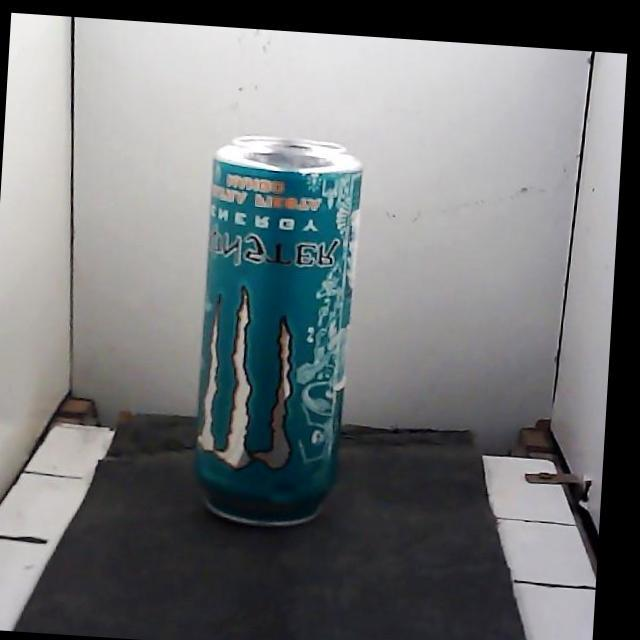metal: (196, 136, 361, 525)
